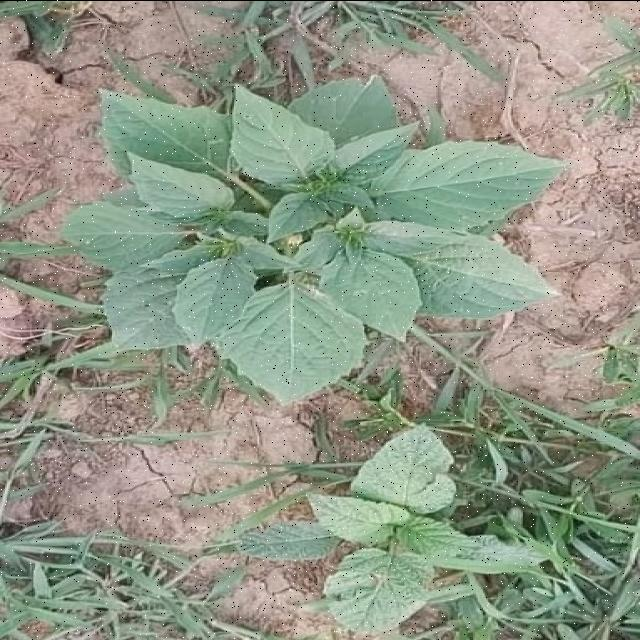weed: (60, 78, 562, 400), (232, 421, 546, 632)
